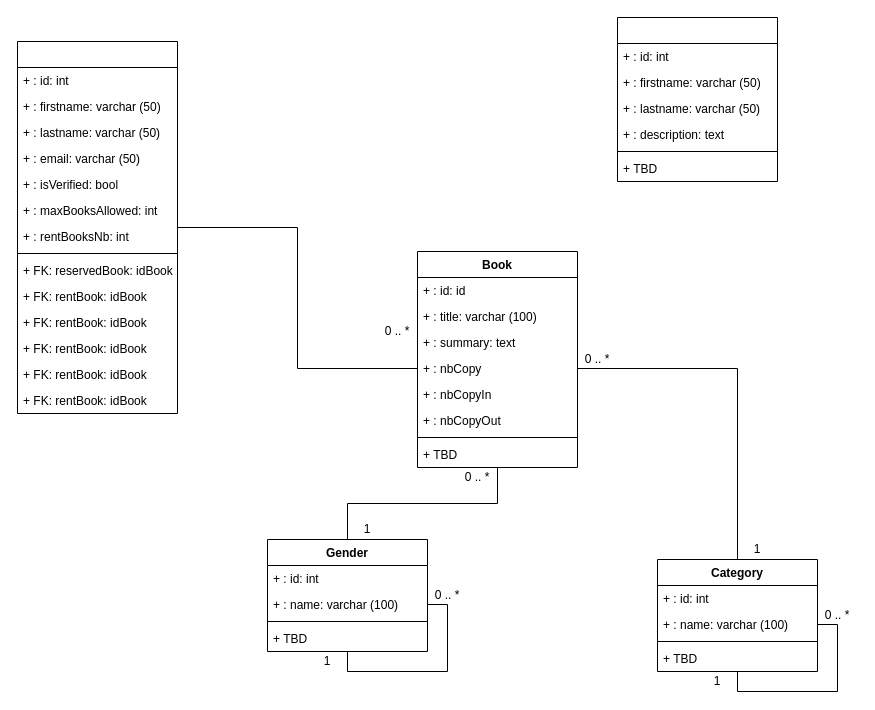
Image size: 875x710. Some labels were removed from this diagram. Each missing label, with the box of its shape:
Author: (616, 16, 778, 182)
User: (16, 40, 178, 414)
